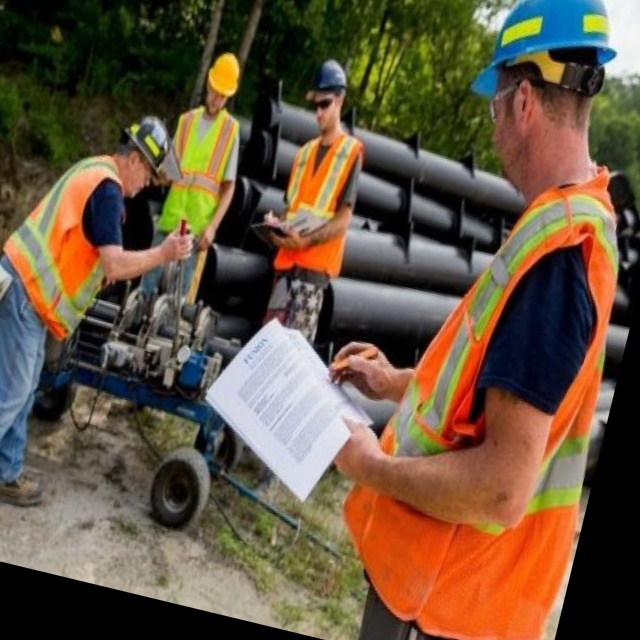Con_Chaleco: (343, 171, 640, 640), (0, 138, 135, 346), (268, 125, 370, 271), (152, 100, 247, 235)
